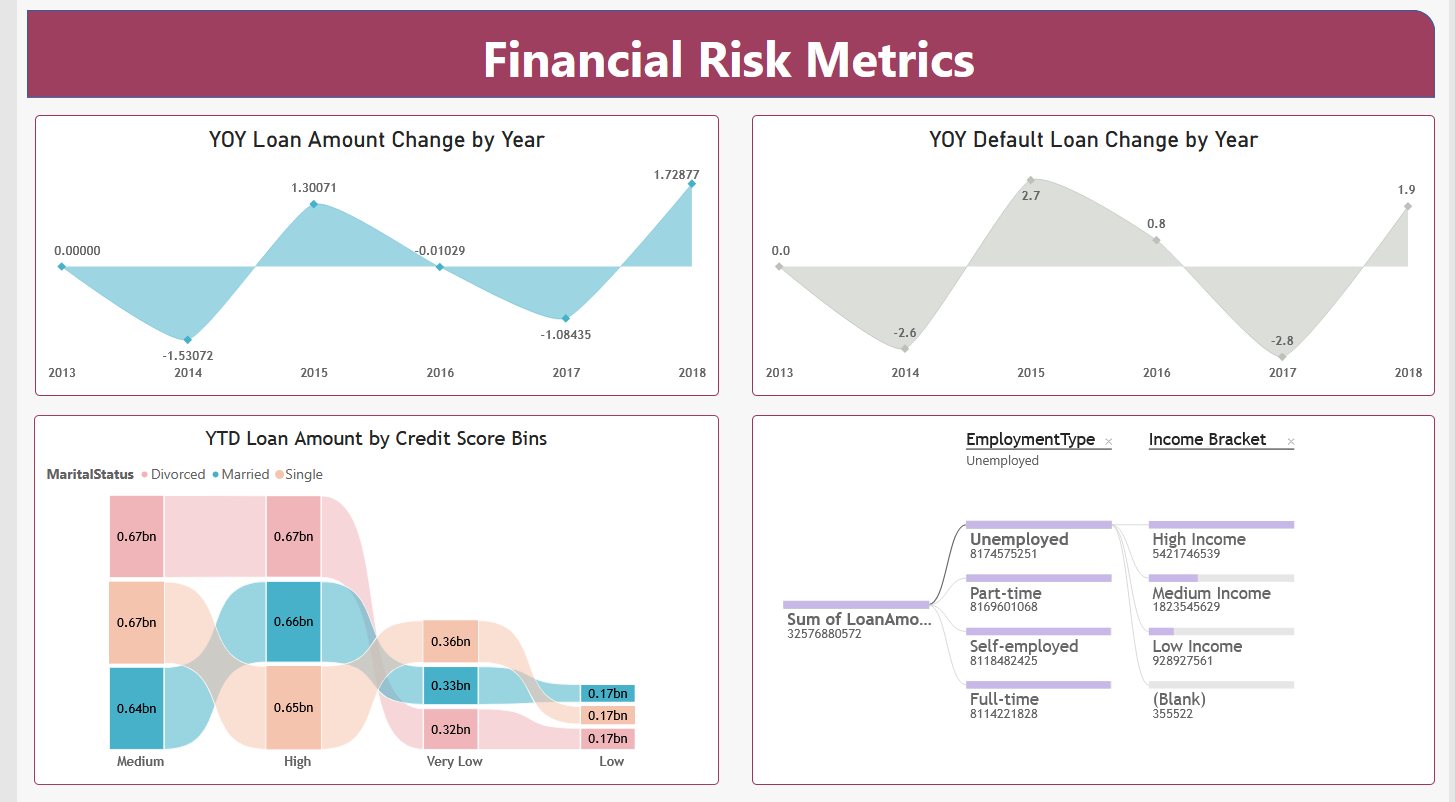

This screenshot's page, from the dashboard's own definition file:
{"tool":"powerbi","page":{"name":"Financial Risk Metrics","canvas":[1920,1080],"ordinal":2},"visuals":[{"type":"shape","title":"Loan Deafult & Overview","box":[12.7,12.7,1889.3,117.6],"z":0},{"type":"lineChart","title":"YOY Loan Amount Change by Year","fields":{"Category":["Loan_default.Year"],"Y":["Measures Table 3.YOY Loan Amount Change"]},"box":[23.5,153.8,917.5,376.4],"z":1000},{"type":"lineChart","title":"YOY Default Loan Change by Year","fields":{"Category":["Loan_default.Year"],"Y":["Measures Table 3.YOY Default Loans Change"]},"box":[986.3,153.8,915.7,376.4],"z":2000},{"type":"ribbonChart","title":"YTD Loan Amount by Credit Score Bins","fields":{"Category":["Loan_default.Credit Score Bins"],"Series":["Loan_default.MaritalStatus"],"Y":["Measures Table 3.YTD Loan Amount"]},"box":[21.7,557.4,919.3,495.8],"z":2001},{"type":"decompositionTreeVisual","fields":{"Analyze":["Sum(Loan_default.LoanAmount)"],"ExplainBy":["Loan_default.EmploymentType","Loan_default.Income Bracket"]},"box":[986.3,557.4,916,496],"z":2002}]}

Visuals, with their boxes in screenshot pixels (x1, y1, x2, y2), scaled from the page's 1920x1080 canvas onto the 1455x802 screenshot:
"Loan Deafult & Overview" shape: 10, 9, 1441, 97
"YOY Loan Amount Change by Year" lineChart: 18, 114, 713, 394
"YOY Default Loan Change by Year" lineChart: 747, 114, 1441, 394
"YTD Loan Amount by Credit Score Bins" ribbonChart: 16, 414, 713, 782
decompositionTreeVisual - Sum(Loan_default.LoanAmount) x Loan_default.EmploymentType: 747, 414, 1442, 782
